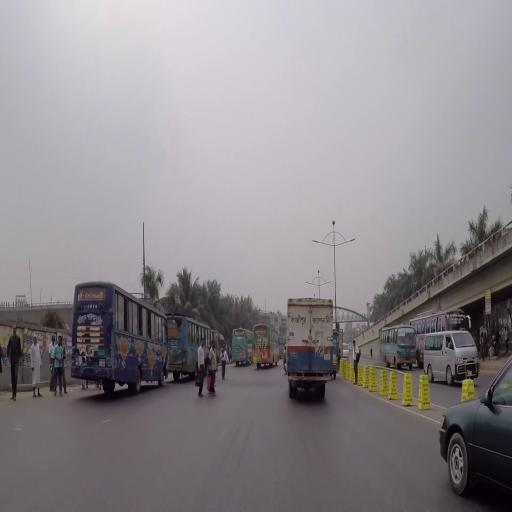bus: (71, 280, 170, 397), (410, 309, 472, 366), (167, 312, 212, 381), (381, 323, 418, 372), (253, 324, 281, 369), (232, 327, 253, 368)
car: (436, 356, 511, 512)
pickup: (288, 297, 334, 400)
van: (424, 330, 482, 386), (342, 342, 351, 359)
